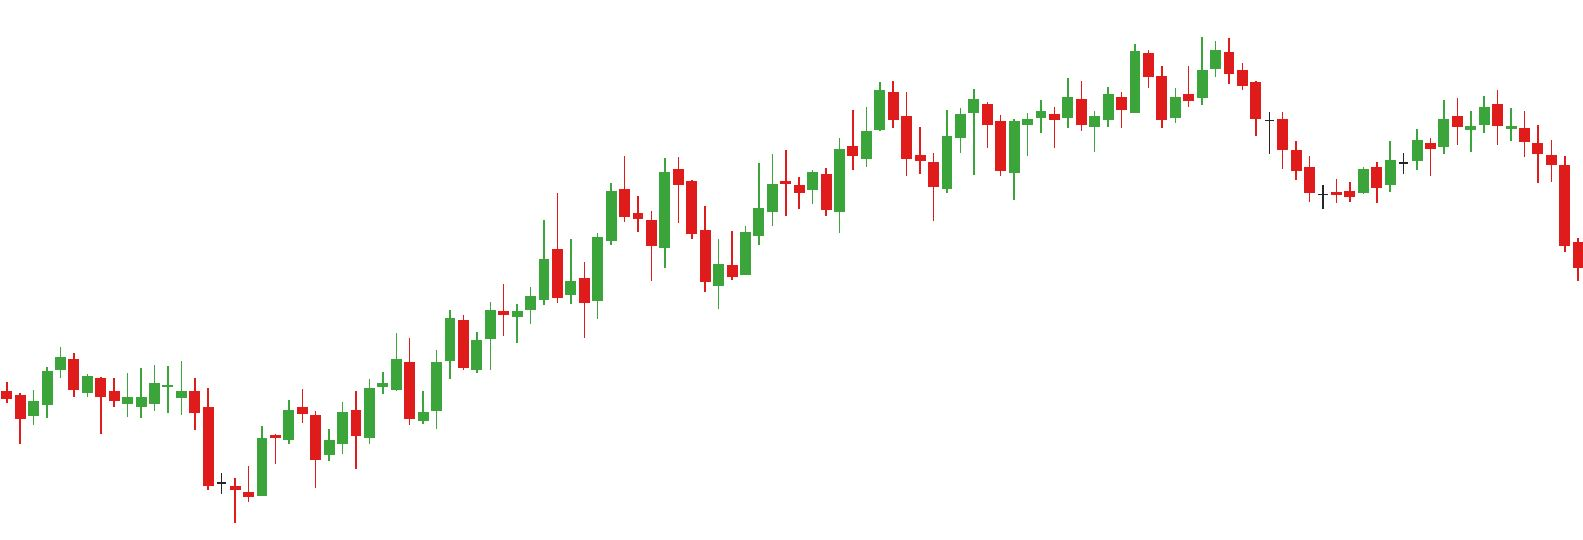sell: (1128, 41, 1236, 103)
